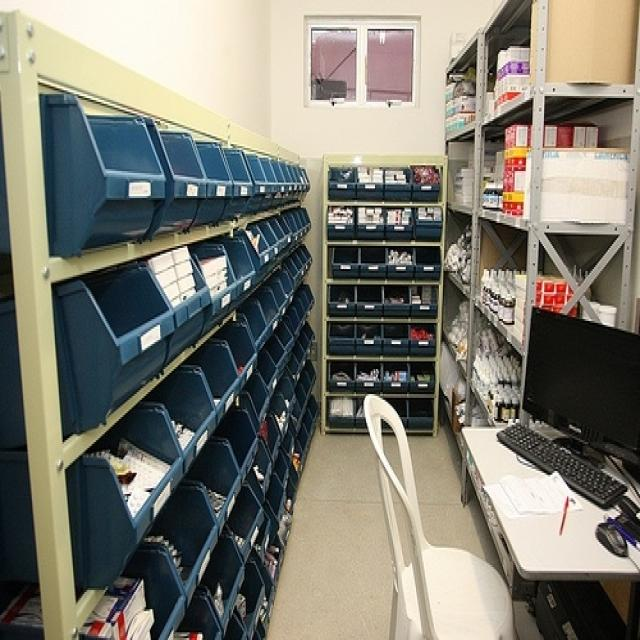E-waste: (489, 289, 640, 570)
Plastics: (31, 69, 326, 640), (326, 163, 440, 438)
